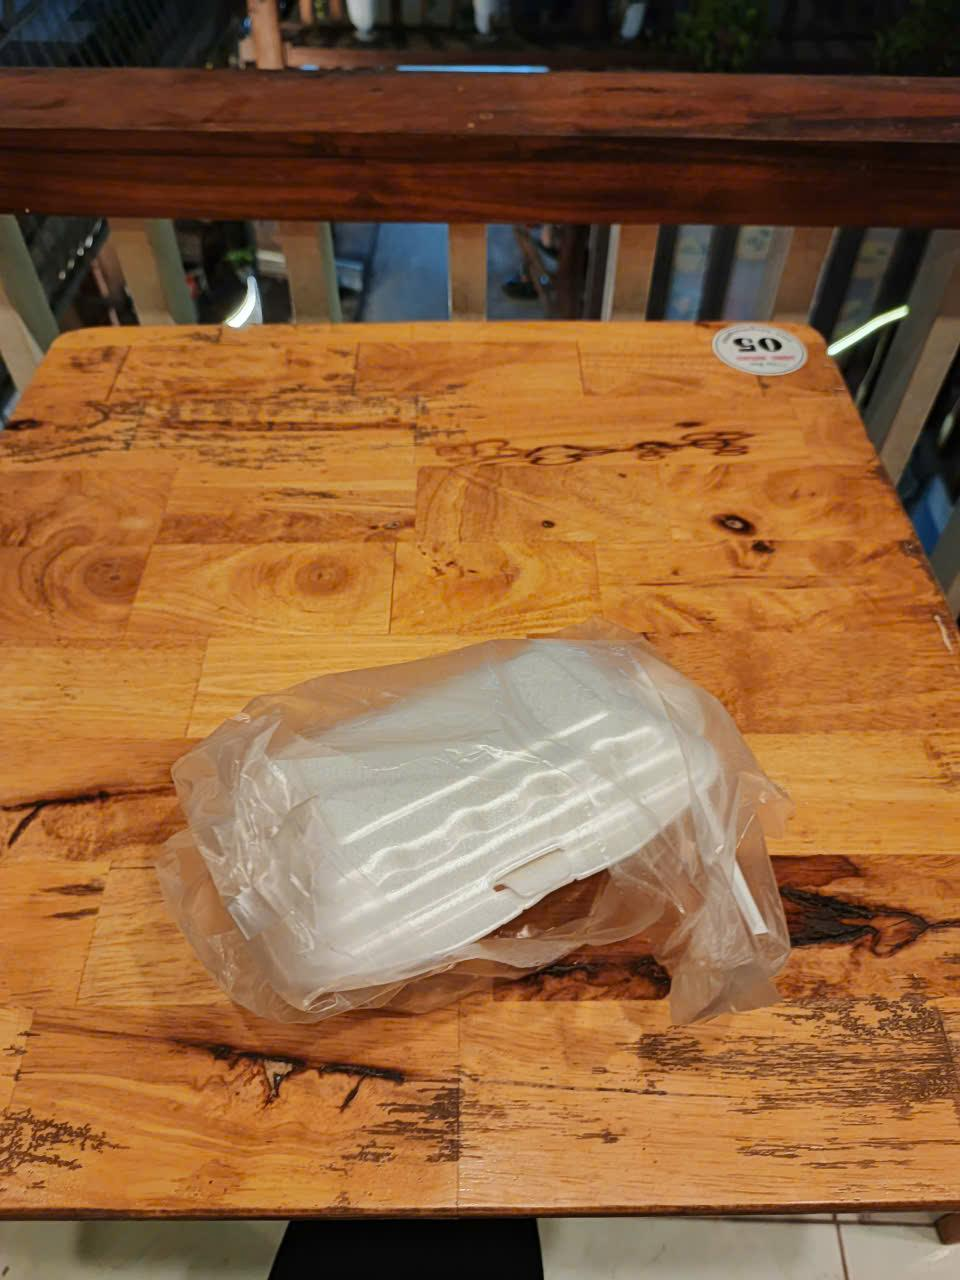Con lai: (180, 636, 798, 1023)
